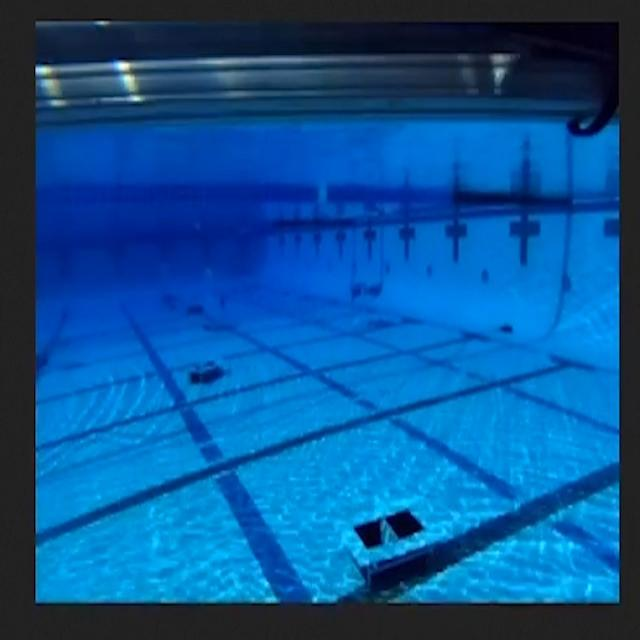Bin: (332, 483, 459, 598)
